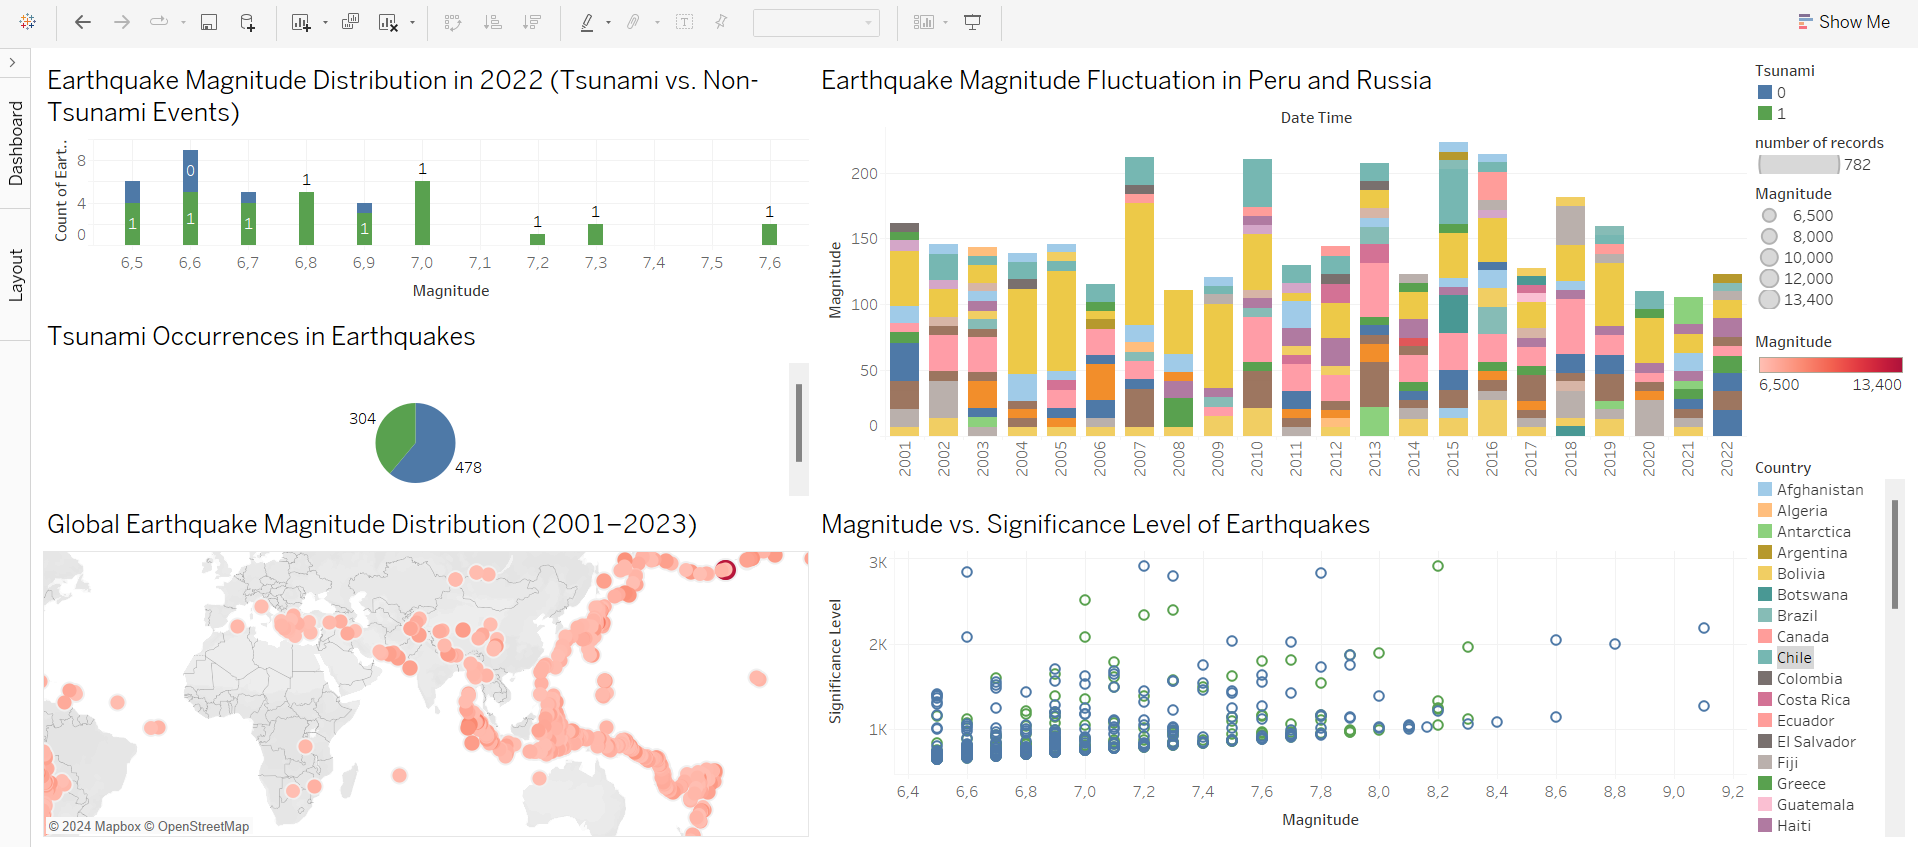

Layout of this report page (visuals, bound fields, positions):
{"tool":"tableau","page":{"name":"Tsunami DASH","canvas":[1000,1000],"units":"permille","ordinal":0},"visuals":[{"type":"worksheet","title":"Earthquake Magnitude Distribution in 2022","mark":"Bar","rows":["magnitude"],"cols":["magnitude"],"box":[4.8,10,404.2,319.9]},{"type":"worksheet","title":"Earthquake Magnitude Fluctuation in Peru and Russia 3","mark":"Bar","rows":["magnitude"],"cols":["date_time"],"box":[409,10,489.6,554.4]},{"type":"legend","title":"Tsunami Occurance Pie chart ","param":"[federated.0fro6v11ccguzs1d1mgrr0flhrm3].[none:tsunami:nk]","box":[898.6,10,96.6,89.9]},{"type":"legend","title":"Tsunami Occurance Pie chart ","param":"[federated.0fro6v11ccguzs1d1mgrr0flhrm3].[sum:Calculation_931119224775864323:qk]","box":[898.6,99.9,96.6,63.7]},{"type":"legend","title":"Global Earthquake Magnitude Distribution (2001–2023)","param":"[federated.0fro6v11ccguzs1d1mgrr0flhrm3].[sum:magnitude:qk]","box":[898.6,163.6,96.6,184.8]},{"type":"worksheet","title":"Tsunami Occurance Pie chart ","mark":"Pie","box":[4.8,329.9,404.2,234.5]},{"type":"legend","title":"Global Earthquake Magnitude Distribution (2001–2023)","param":"[federated.0fro6v11ccguzs1d1mgrr0flhrm3].[sum:magnitude:qk]","box":[898.6,348.3,96.6,157.3]},{"type":"legend","title":"Earthquake Magnitude Fluctuation in Peru and Russia 3","param":"[federated.0fro6v11ccguzs1d1mgrr0flhrm3].[none:country:nk]","box":[898.6,505.6,96.6,484.4]},{"type":"worksheet","title":"Global Earthquake Magnitude Distribution (2001–2023)","mark":"Circle","rows":["latitude"],"cols":["longitude"],"box":[4.8,564.4,404.2,425.7]},{"type":"worksheet","title":"Magnitude vs. Significance Level of Earthquakes","mark":"Automatic","rows":["sig"],"cols":["magnitude"],"box":[409,564.4,489.6,425.7]}]}

Visuals, with their boxes on the dashboard's canvas, which has no fixed pixel size, in thousandths of its width and height (x1, y1, x2, y2). These are canvas units, not pixel positions in the 1918x847 screenshot, which may show the page scaled, cropped or inside an application window:
"Earthquake Magnitude Distribution in 2022" worksheet (Bar marks): bbox(5, 10, 409, 330)
"Earthquake Magnitude Fluctuation in Peru and Russia 3" worksheet (Bar marks): bbox(409, 10, 899, 564)
"Tsunami Occurance Pie chart " legend: bbox(899, 10, 995, 100)
"Tsunami Occurance Pie chart " legend: bbox(899, 100, 995, 164)
"Global Earthquake Magnitude Distribution (2001–2023)" legend: bbox(899, 164, 995, 348)
"Tsunami Occurance Pie chart " worksheet (Pie marks): bbox(5, 330, 409, 564)
"Global Earthquake Magnitude Distribution (2001–2023)" legend: bbox(899, 348, 995, 506)
"Earthquake Magnitude Fluctuation in Peru and Russia 3" legend: bbox(899, 506, 995, 990)
"Global Earthquake Magnitude Distribution (2001–2023)" worksheet (Circle marks): bbox(5, 564, 409, 990)
"Magnitude vs. Significance Level of Earthquakes" worksheet: bbox(409, 564, 899, 990)
